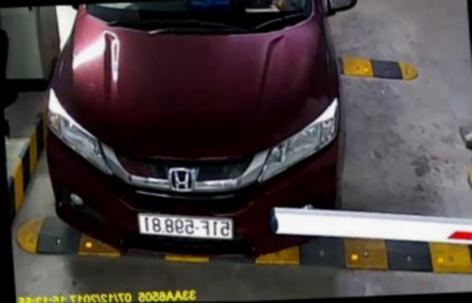License_Plate: (132, 197, 241, 243)
